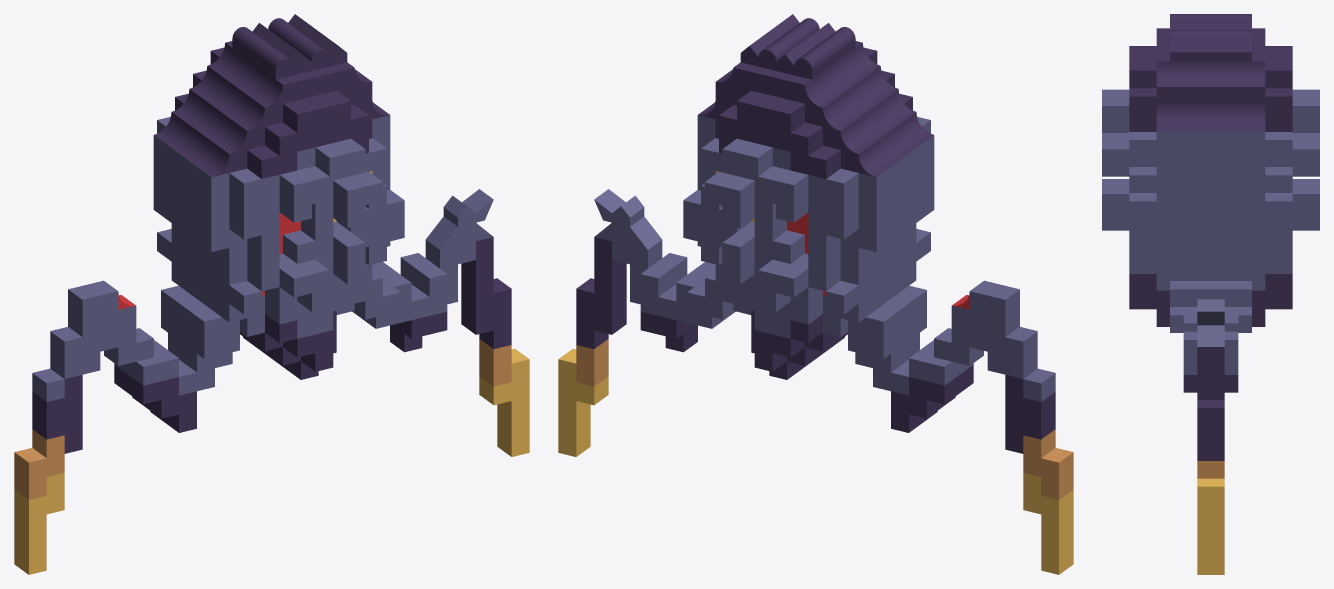
The model's file is sample-enemy.glb.
3 renders of one model, left to right at view 1: azimuth 30°, elevation 25°; view 2: azimuth 150°, elevation 25°; view 3: azimuth 270°, elevation 25°, orthographic. The views are drawn at different scales.
Parts seen in each view (by area): view 1: generated(Clone); view 2: generated(Clone); view 3: generated(Clone).
Part boxes in pixels (box(x1,y1,x2,y2)): generated(Clone): box(14, 14, 529, 574); generated(Clone): box(558, 14, 1073, 574); generated(Clone): box(1102, 14, 1319, 574).
Bounding box in the file's own units: 28 × 25 × 11.2.
Materials: 1 (1 with a texture image).
